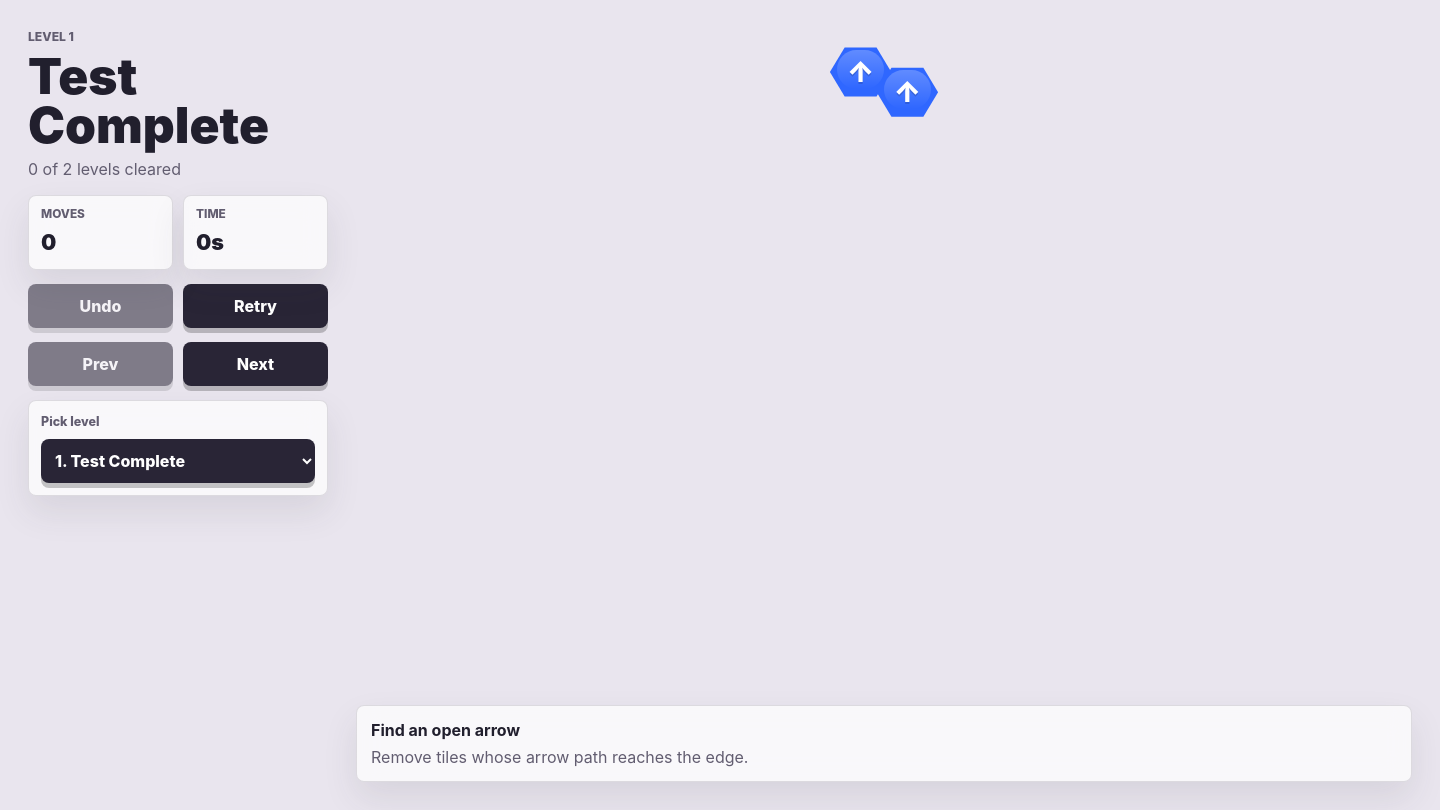
Test: GameScreen › keeps_state_and_shows_feedback_when_a_blocked_tile_is_clicked
Select "2. Test Blocked" in the dropdown labelled "Pick level" at point(178, 461), box [41,439,315,483]
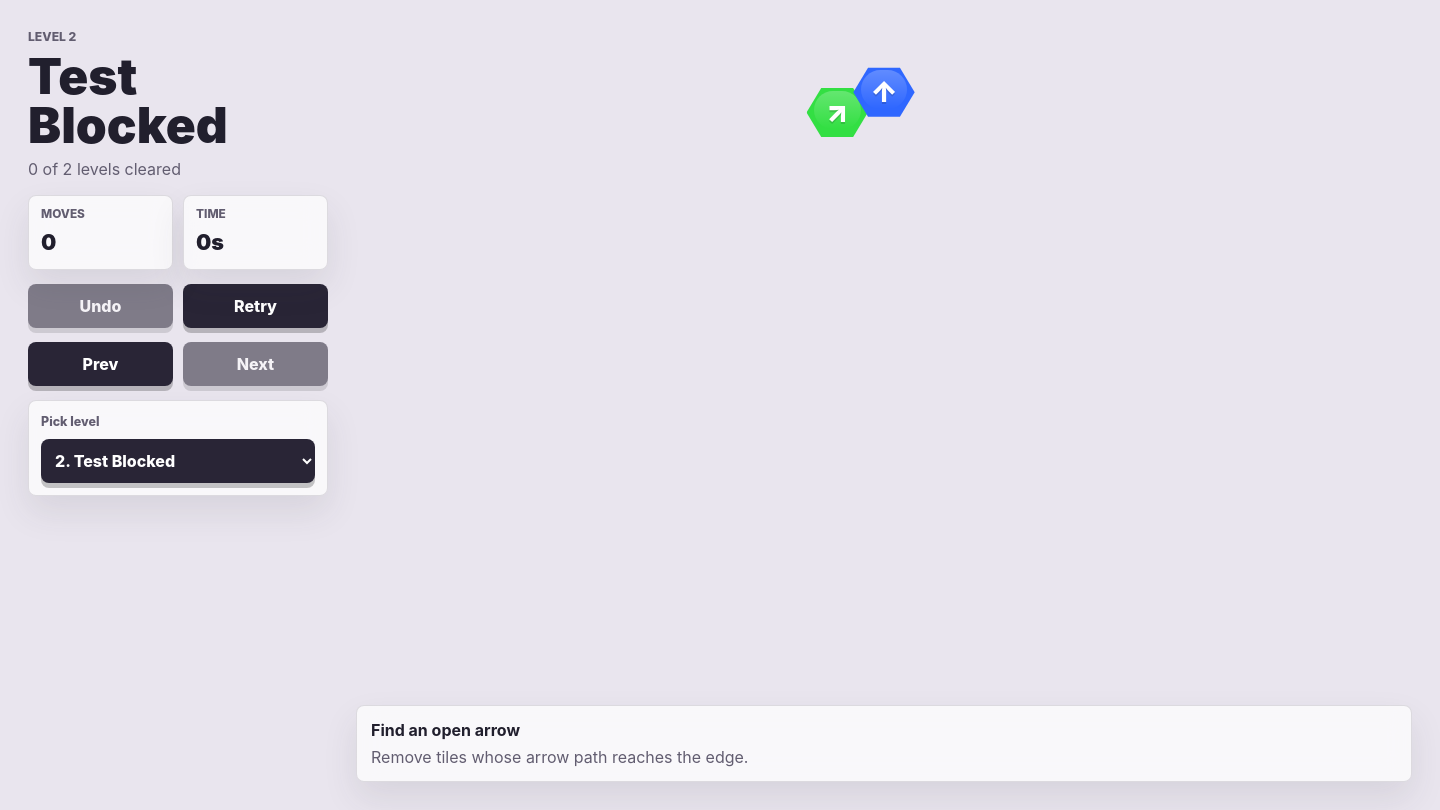
Click the button named "Tile blocked-a arrow upRight" at point(837, 112), box [806,86,868,138]
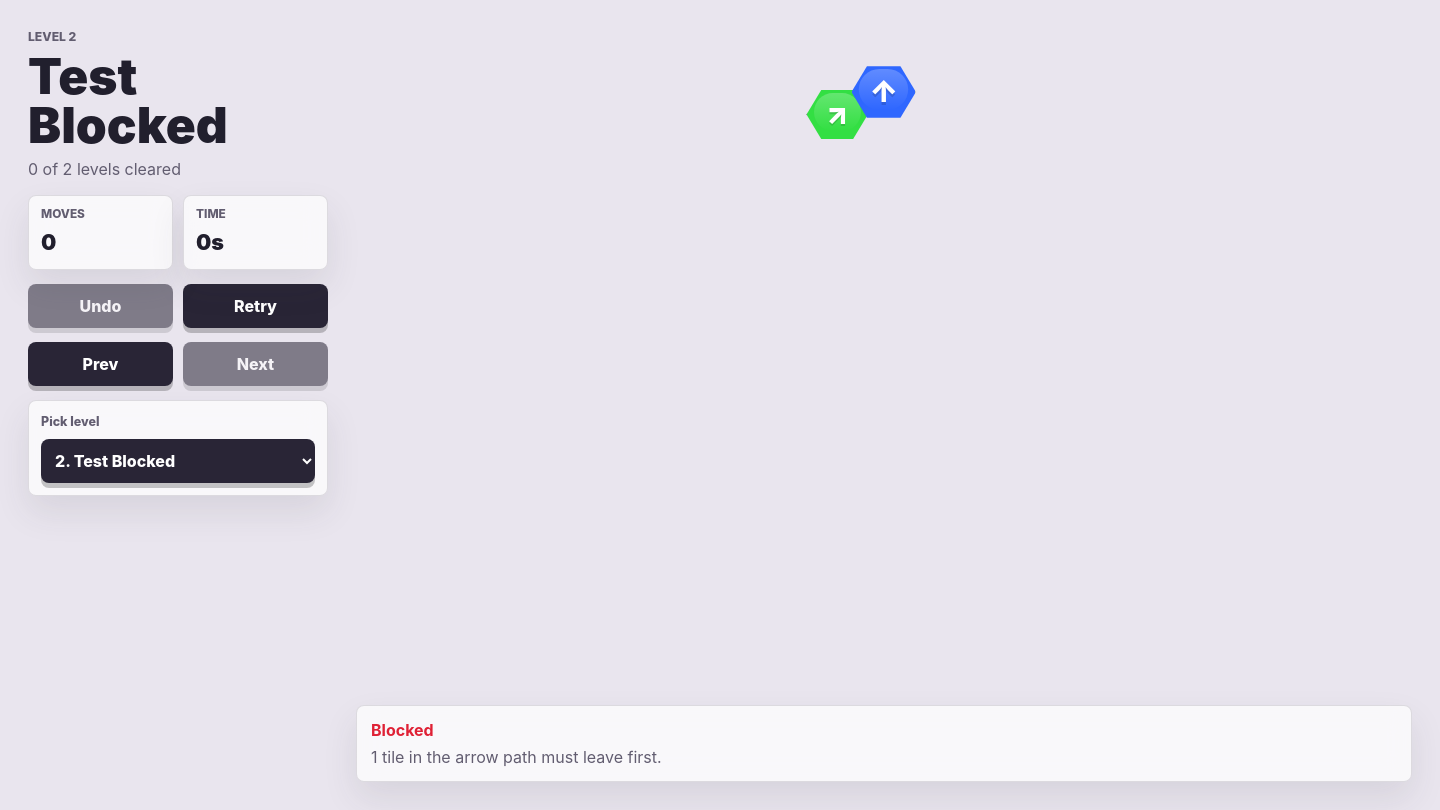
Expected: the text with test id "move-count" reads "0", [41,229,56,255]
Expected: the button named "Tile blocked-a arrow upRight" is shown, [806,88,868,140]
Expected: the text "Blocked" is shown, [371,720,434,740]
